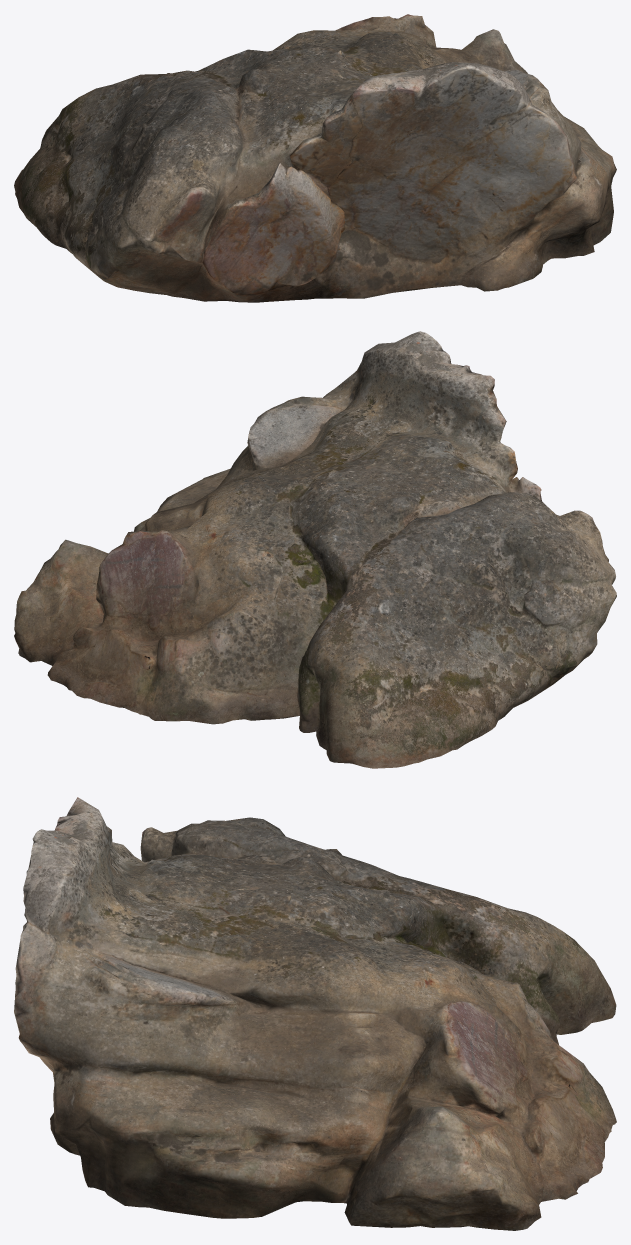
Rendered from SM_yeomajq_tier_2.gltf.
The picture shows the model from 3 angles, top to bottom: view 1: azimuth 30°, elevation 25°; view 2: azimuth 150°, elevation 25°; view 3: azimuth 270°, elevation 25°; orthographic projection. The views are drawn at different scales.
Parts seen in each view (by area): view 1: yeomajq_LOD2_TIER2_000; view 2: yeomajq_LOD2_TIER2_000; view 3: yeomajq_LOD2_TIER2_000.
Part boxes in pixels (x1=…): yeomajq_LOD2_TIER2_000: x1=14, y1=14, x2=616, y2=302; yeomajq_LOD2_TIER2_000: x1=14, y1=331, x2=616, y2=768; yeomajq_LOD2_TIER2_000: x1=14, y1=797, x2=616, y2=1230.
Size of the model in its own units: 1.14 by 0.5164 by 1.02.
Materials: 1 (1 with a texture image).
